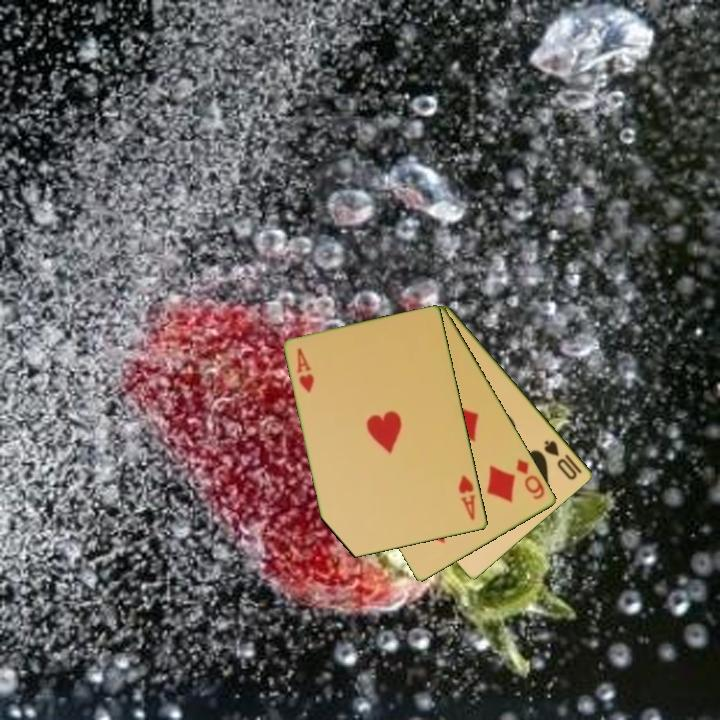10s: (540, 436, 580, 483)
6d: (513, 455, 548, 503)
Ah: (293, 345, 317, 395), (455, 472, 478, 523)
